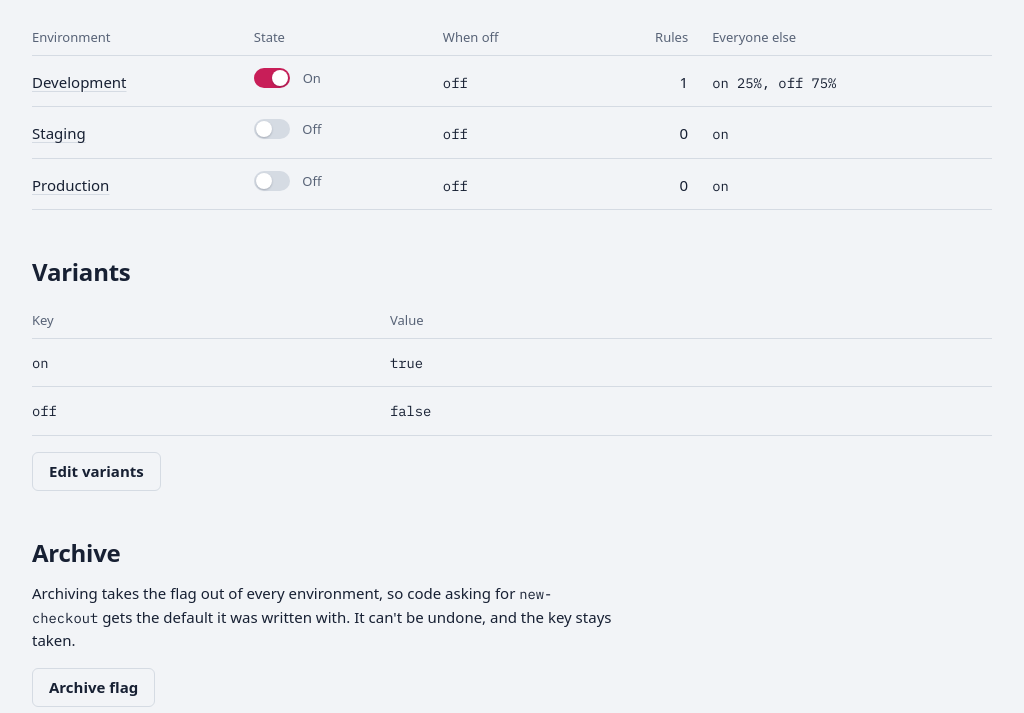
editing a flag's variants › shows why the API refused to remove a variant still in use
The image size is (1024, 713).
(page scrolled)
Click the button "Edit variants" at (96, 471), box [32,452,161,491]
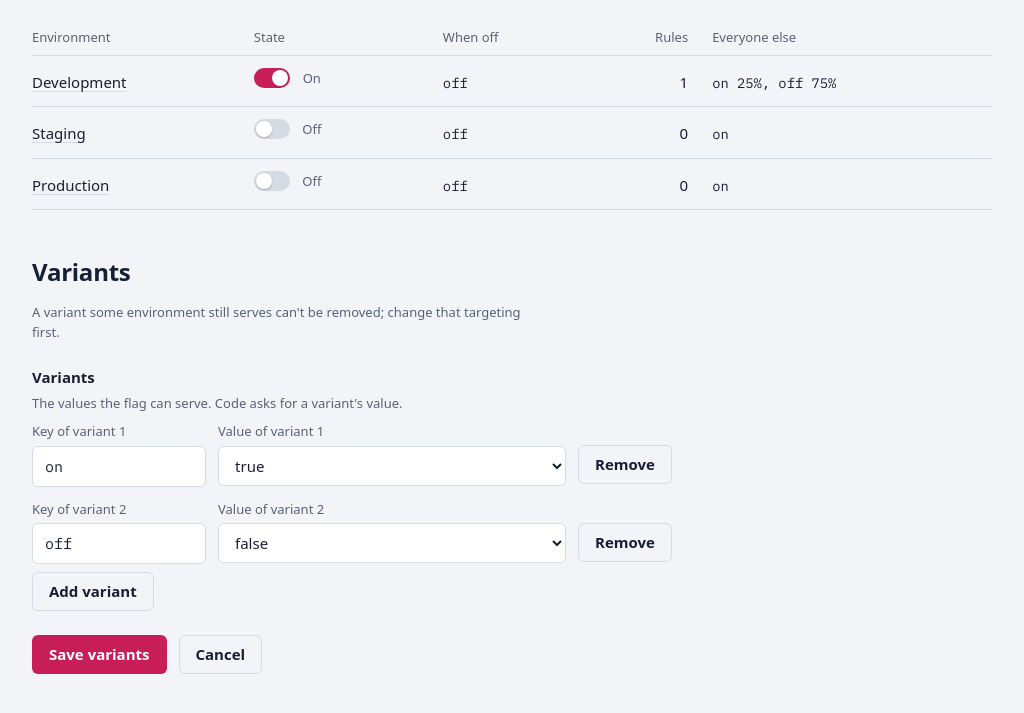
Click the button with aria-label "Remove variant 1" at (625, 465), box [578,445,672,484]
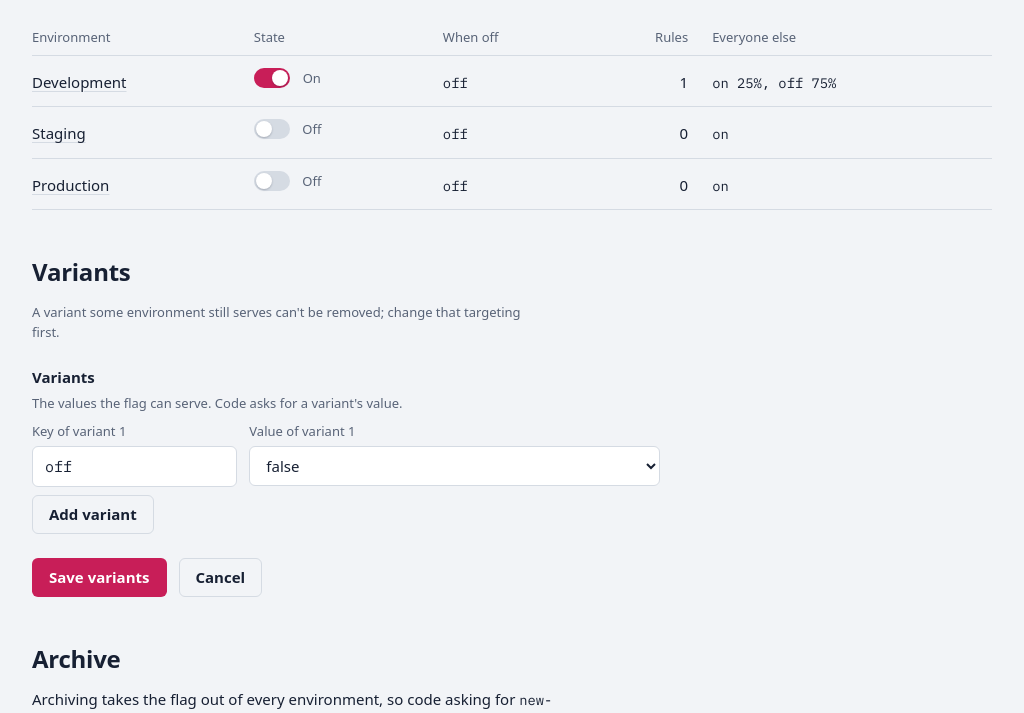
Click the button "Save variants" at (99, 577), box [32,558,166,597]
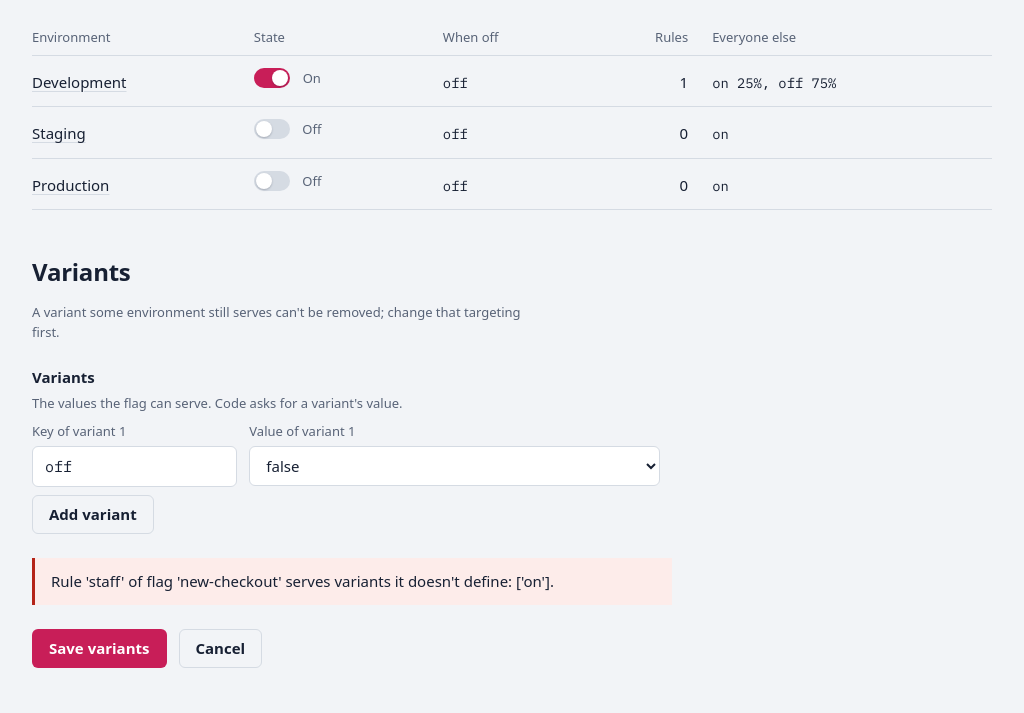
Expected: the button "Save variants" is shown, [32,629,166,668]
Expected: the message shows "Rule 'staff' of flag 'new-checkout' serves variants it doesn't define", [51,571,554,591]
